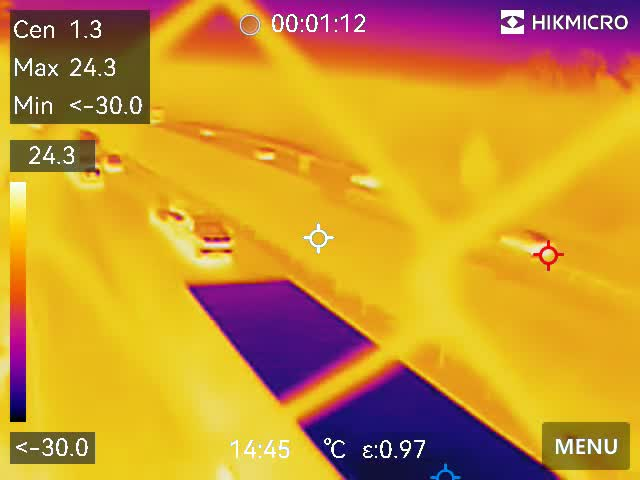heavyTruck: (170, 273, 570, 480), (60, 125, 103, 190)
smallCar: (491, 223, 558, 256), (105, 147, 126, 178)
vehicle: (153, 203, 232, 259), (348, 167, 390, 195), (252, 143, 280, 164), (194, 126, 217, 139)
